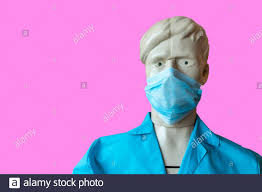mask: (133, 21, 211, 124)
